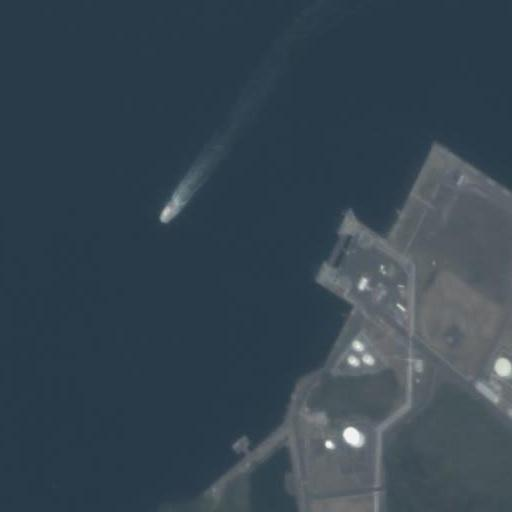person: (160, 203, 179, 223)
